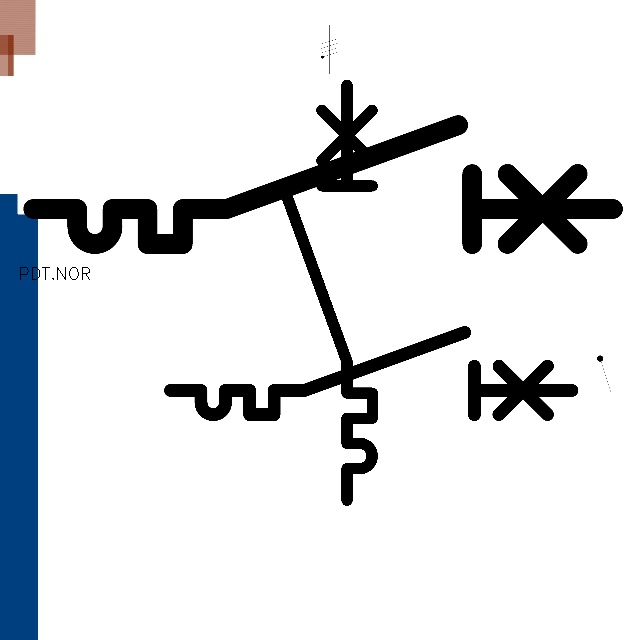interruptor_termomagnetico: (18, 110, 628, 259), (276, 74, 383, 511), (160, 322, 582, 425)
